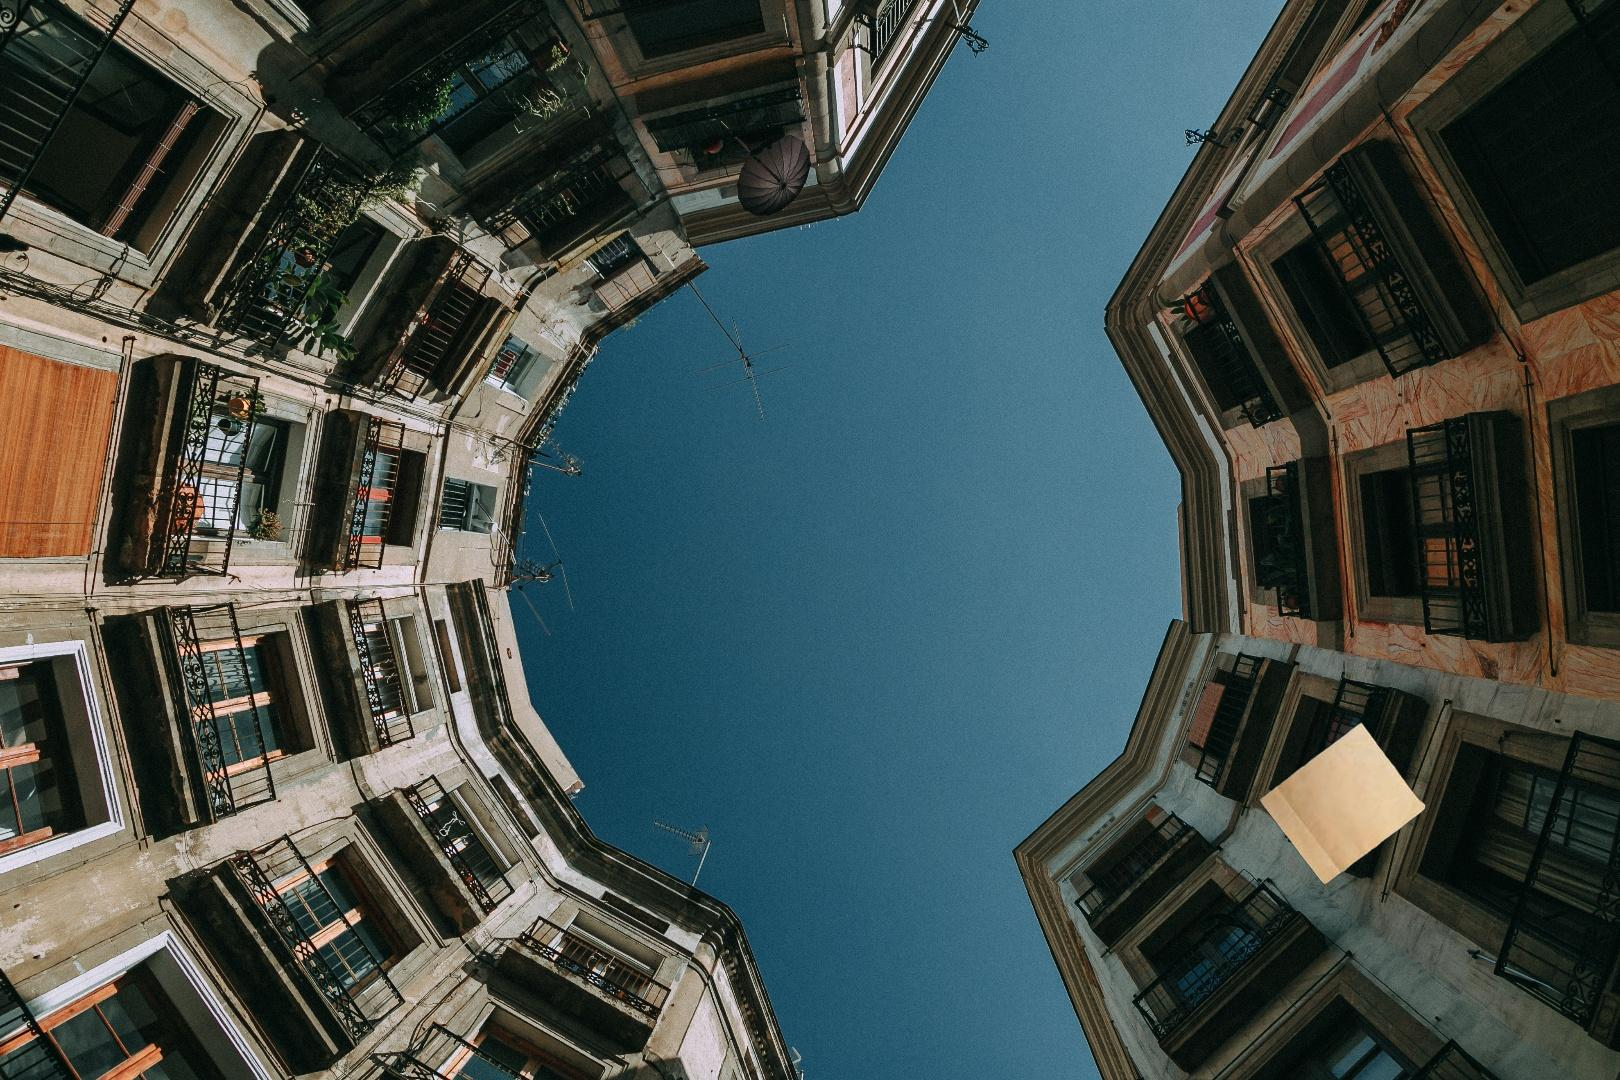paper-bag: (1257, 716, 1430, 887)
trashbox-cardboard: (1600, 945, 1620, 1080)
